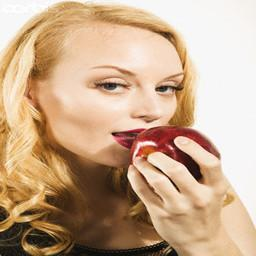apple: (129, 125, 222, 179)
